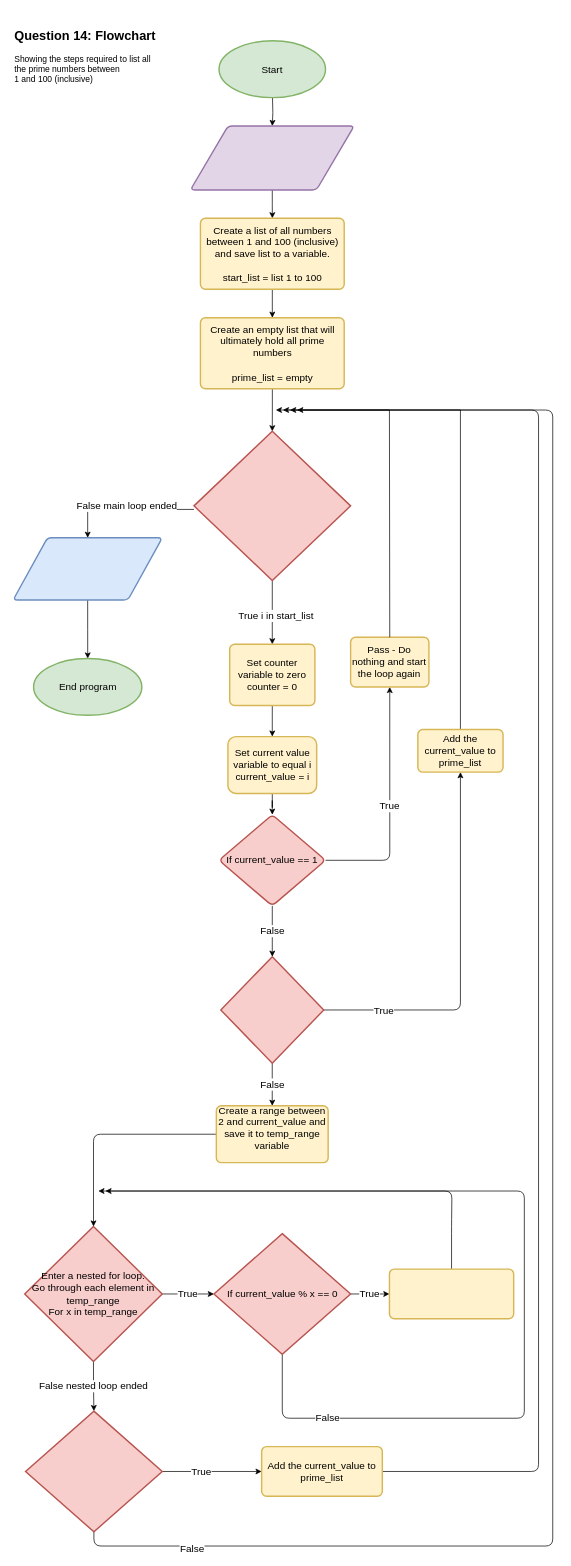
Image size: 571x1566. Some labels were removed from this diagram. Here are the shapes that lost their labels. From the top down, the centre of each, then its label:
(272,157): Print "This program displays all prime numbers between 1 and 100"
(272,505): Enter main for loop. Go through each element in start_list. for i in start_list
(87,568): Print the prime numbers. print(prime_list)
(272,1010): If current_value == 2
(451,1293): Increment counter by 1 counter = counter + 1
(93,1471): If counter == 0
